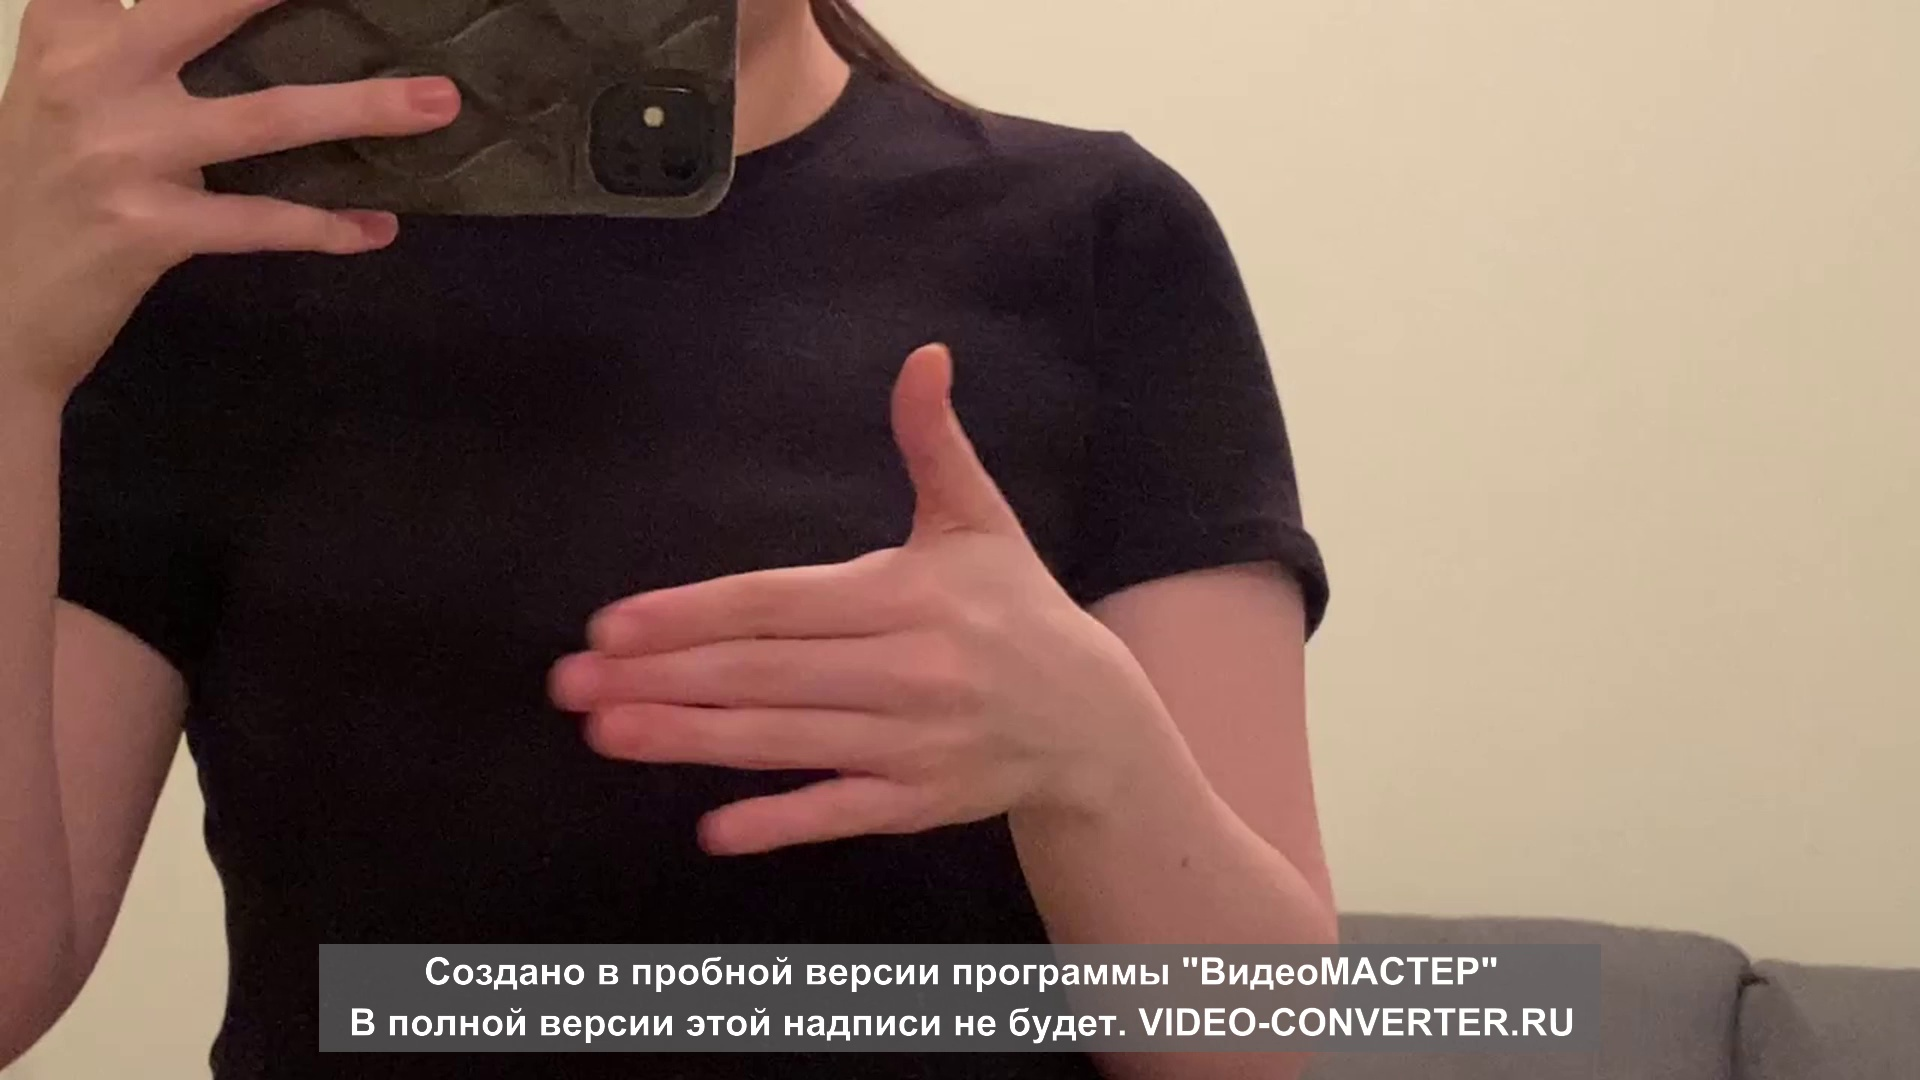Кисть: (549, 343, 1102, 851)
